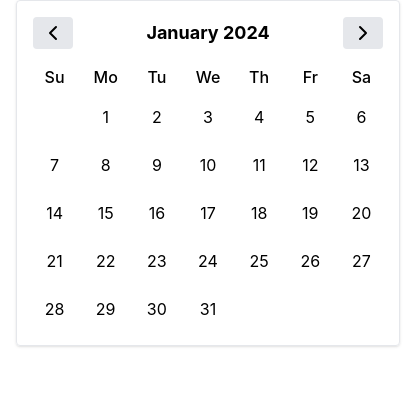
Test case: Calendar › Navigation › navigates to previous month when previous button is clicked
Step 1. Click the button named "Previous Month" → [53, 33], box [33,17,73,49]
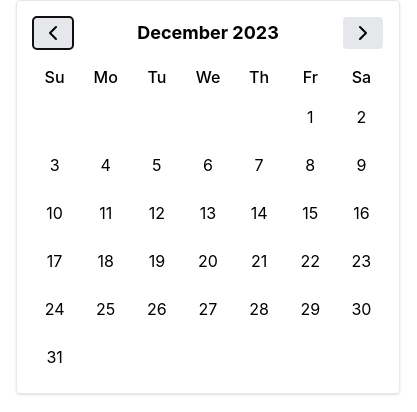
Expected: the heading "December 2023" is shown, [137,19,279,47]
